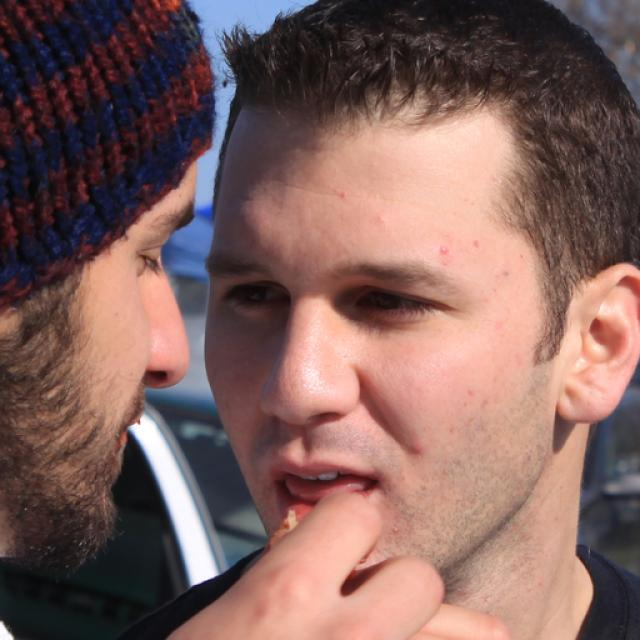Acne: (430, 237, 456, 262), (365, 207, 390, 227), (386, 518, 406, 543), (404, 440, 426, 462), (327, 187, 353, 205)
